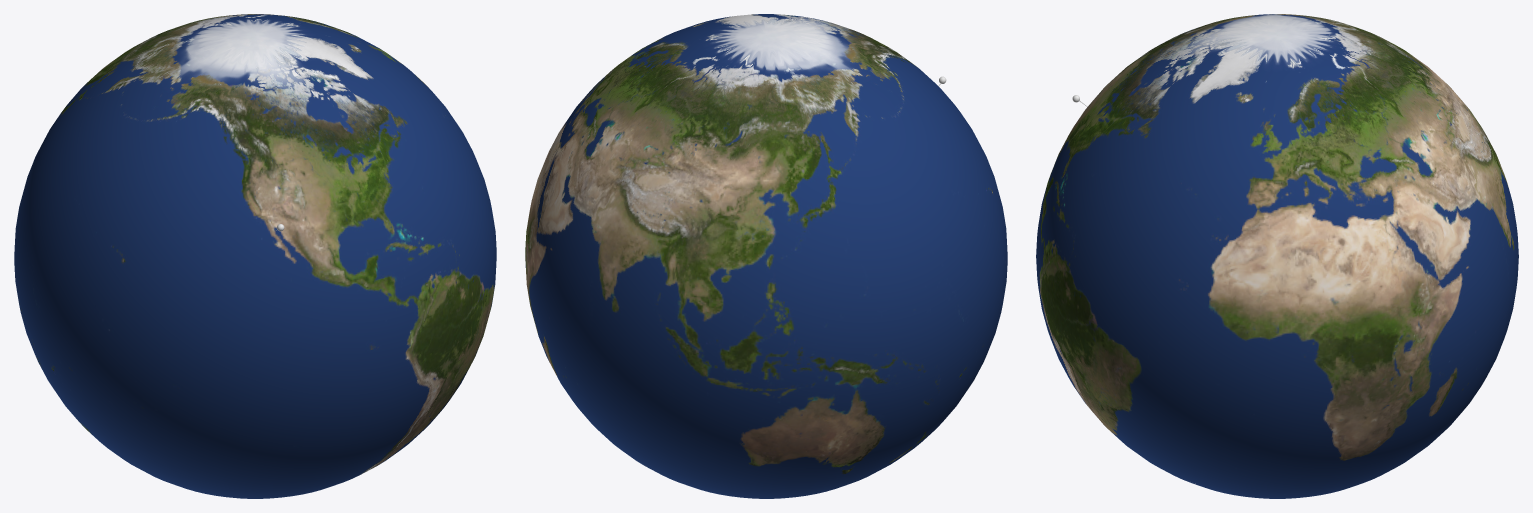
The model's file is earth.glb.
3 views of the same model, side by side, from view 1: azimuth 30°, elevation 25°; view 2: azimuth 150°, elevation 25°; view 3: azimuth 270°, elevation 25° (orthographic).
Visible parts, largest first — view 1: earth; view 2: earth; view 3: earth.
Part boxes in pixels (x1,y1,x2,y2): earth: (14,14,496,498); earth: (525,14,1007,498); earth: (1036,14,1518,498).
Size of the model in its own units: 1.97 by 2 by 1.97.
Materials: 1 (1 with a texture image).
